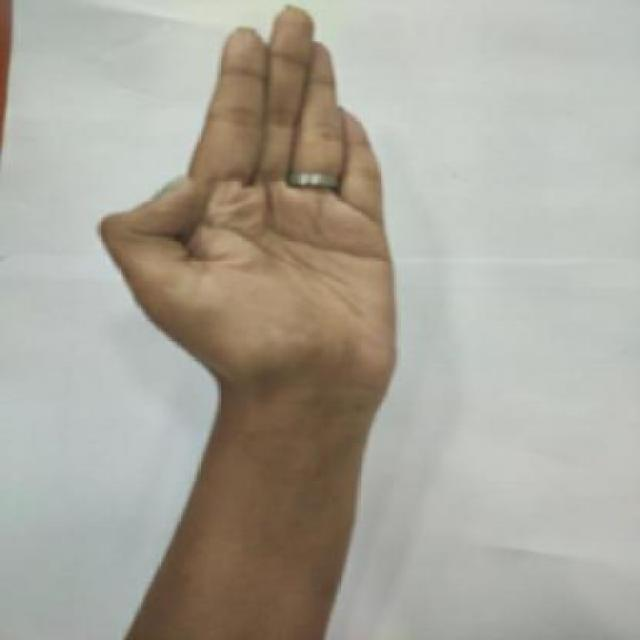without_gloves: (73, 3, 441, 492)
